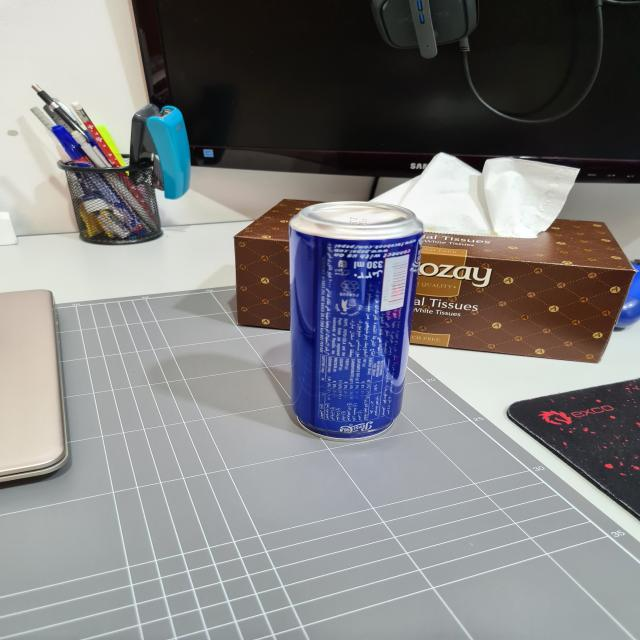non-organic waste: (286, 199, 422, 440)
